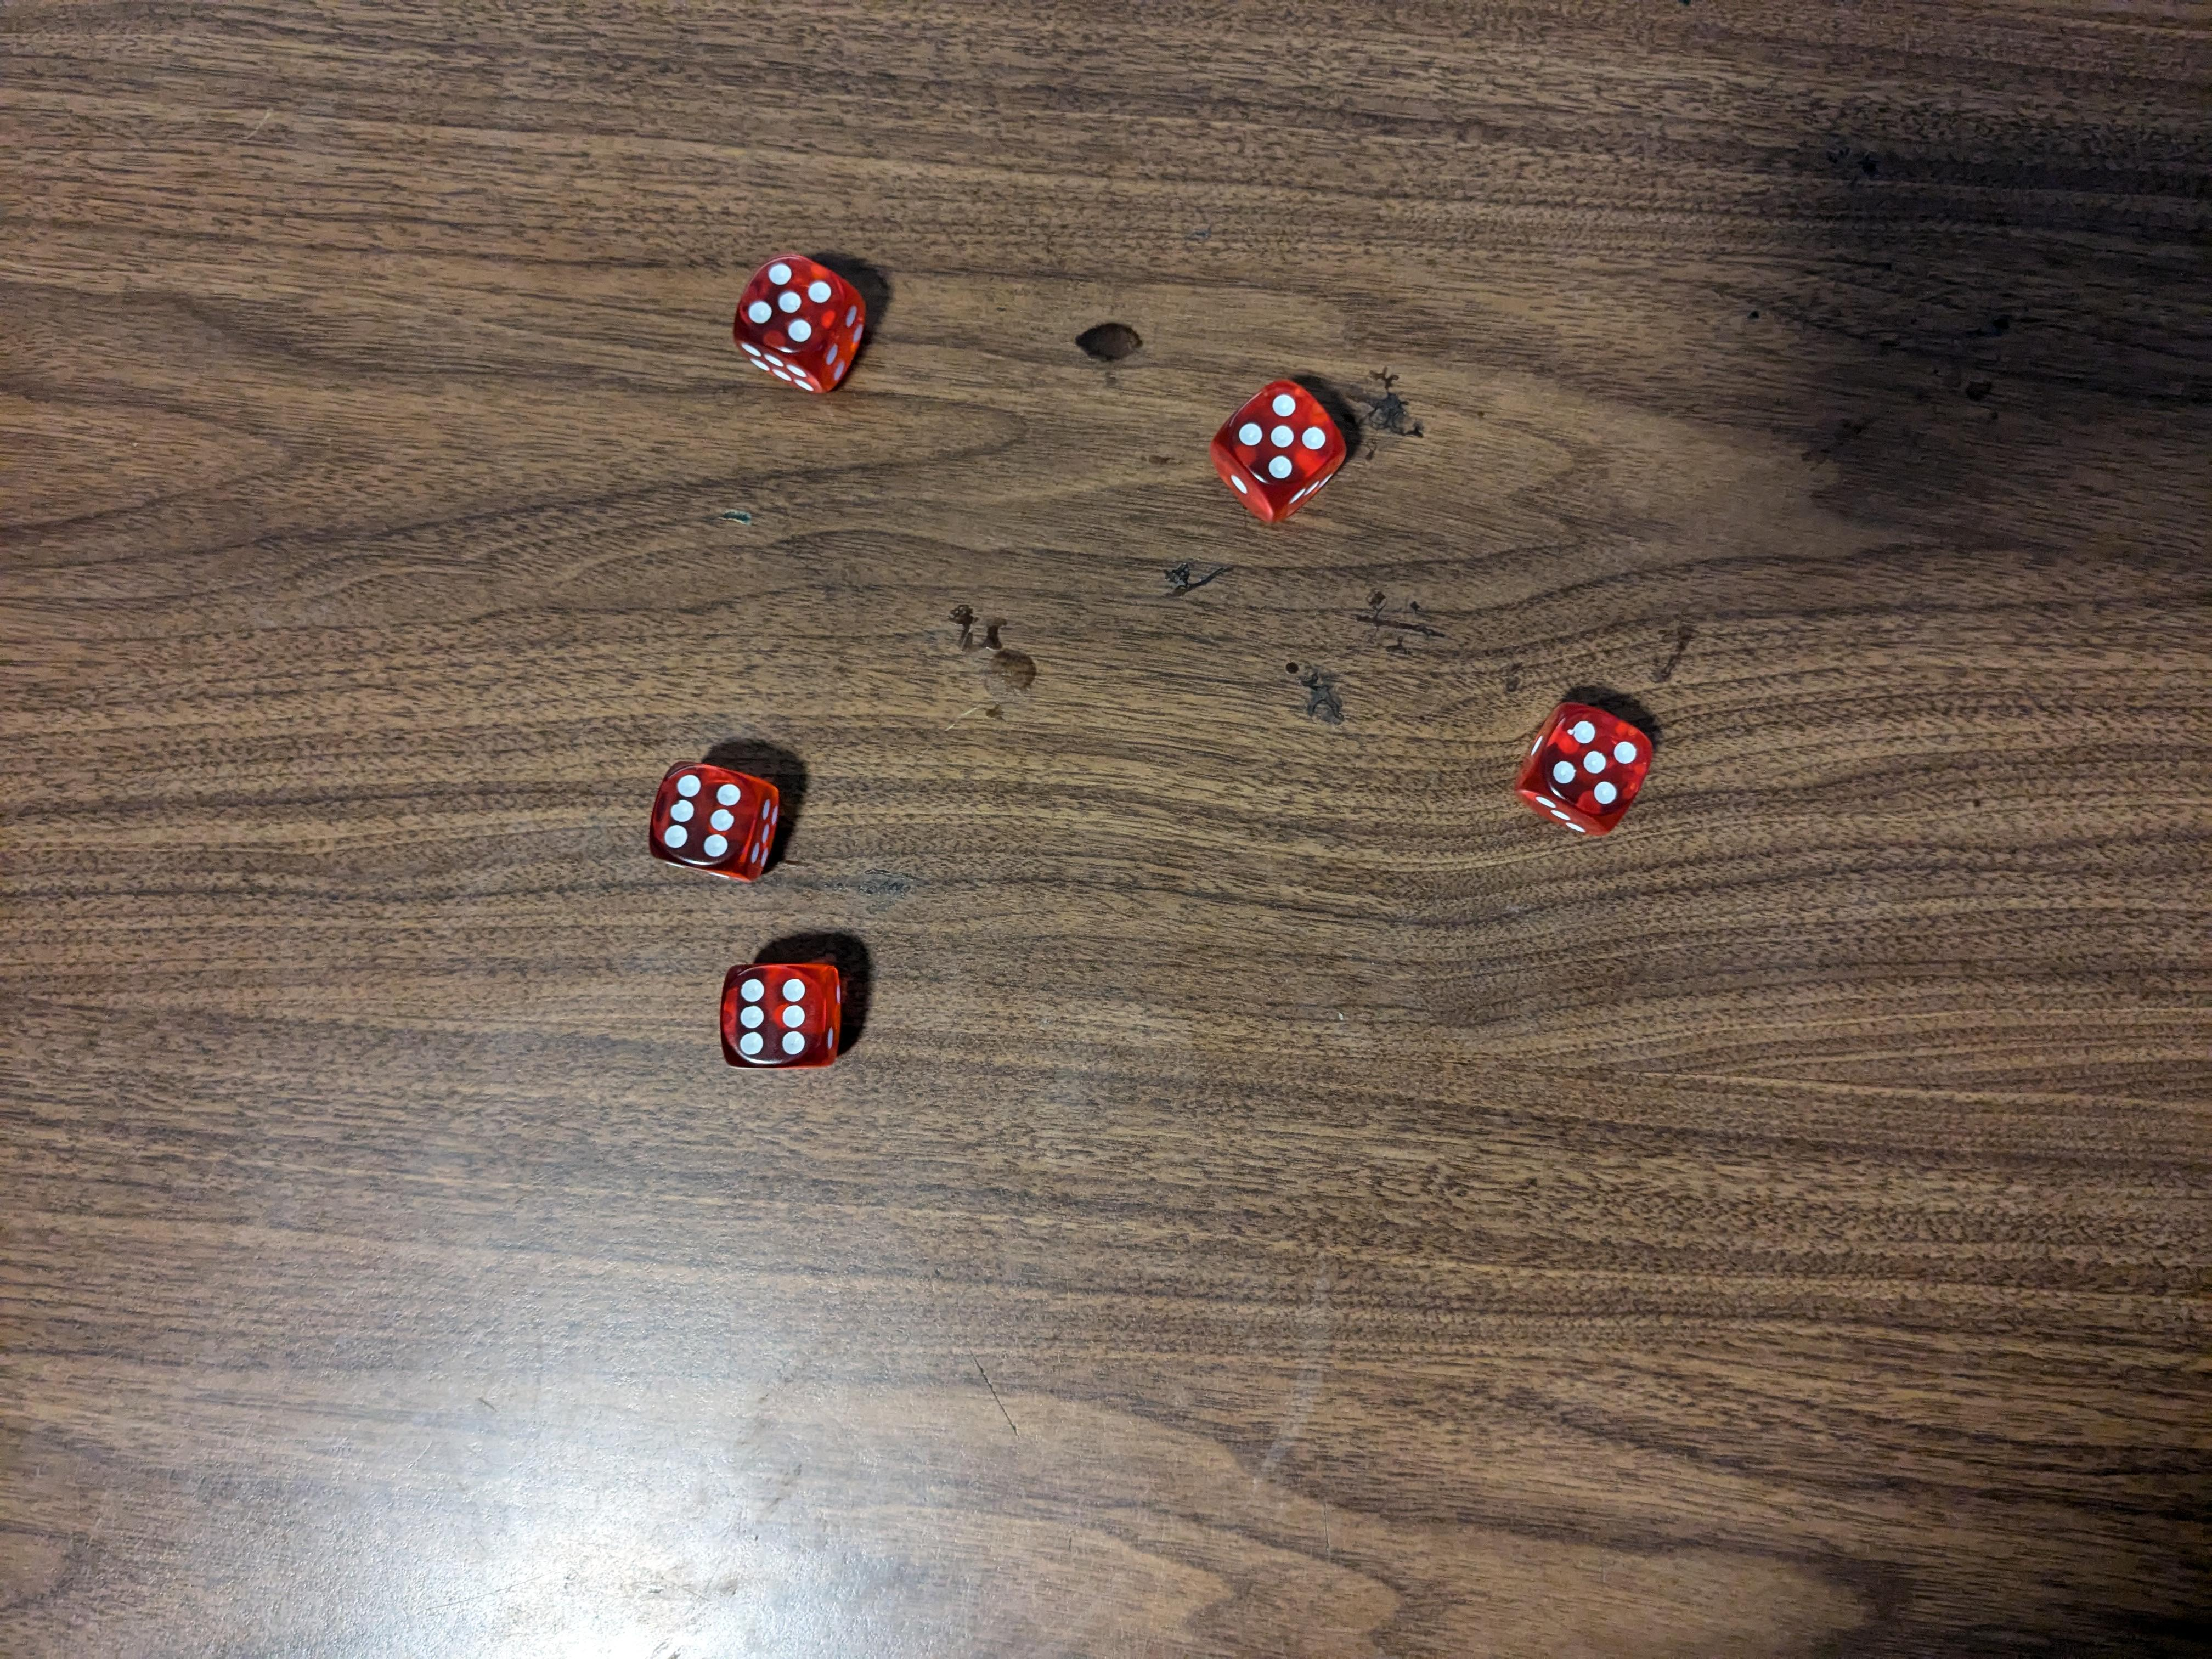five: (1207, 376, 1352, 521), (1517, 695, 1655, 842), (738, 254, 869, 396)
six: (643, 760, 792, 887), (718, 962, 845, 1073)
